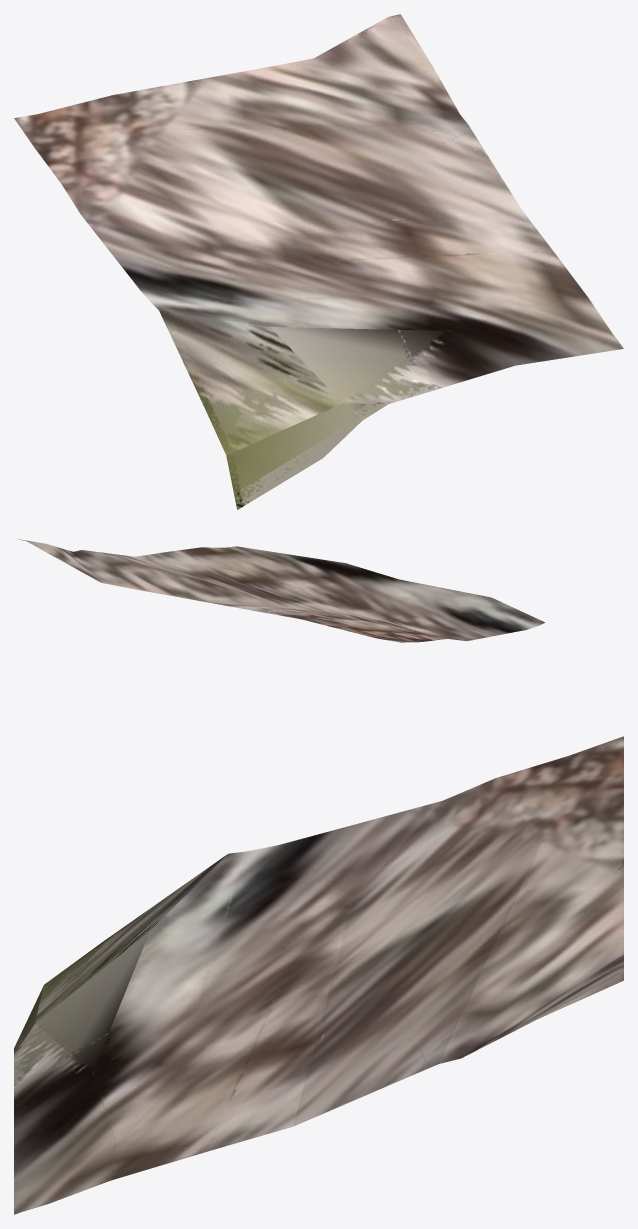
3 renders of one model, top to bottom at view 1: azimuth 30°, elevation 25°; view 2: azimuth 150°, elevation 25°; view 3: azimuth 270°, elevation 25°, orthographic. The views are drawn at different scales.
Size of the model in its own units: 1.67 by 0.9864 by 1.67.
Materials: 3 (3 with a texture image).
